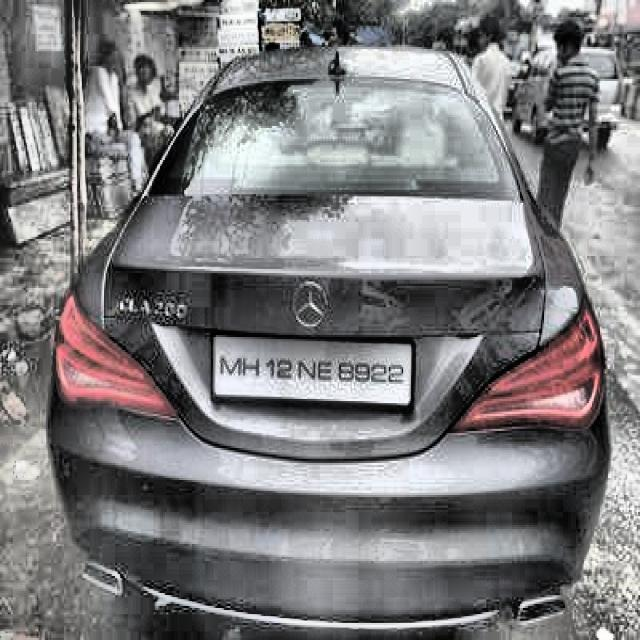license_plate: (215, 338, 409, 405)
